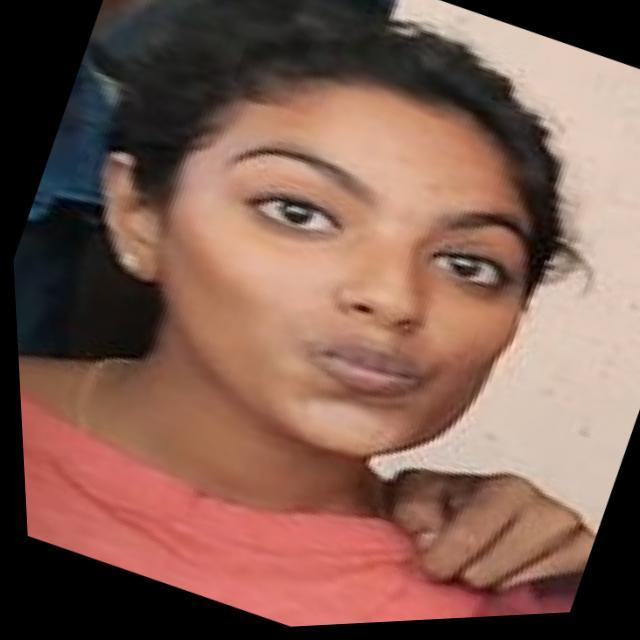Nonhelmet: (100, 5, 576, 476)
